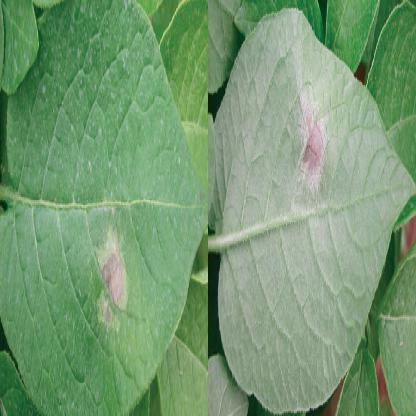potato leaf late blight: (208, 9, 416, 410), (8, 2, 205, 410)
